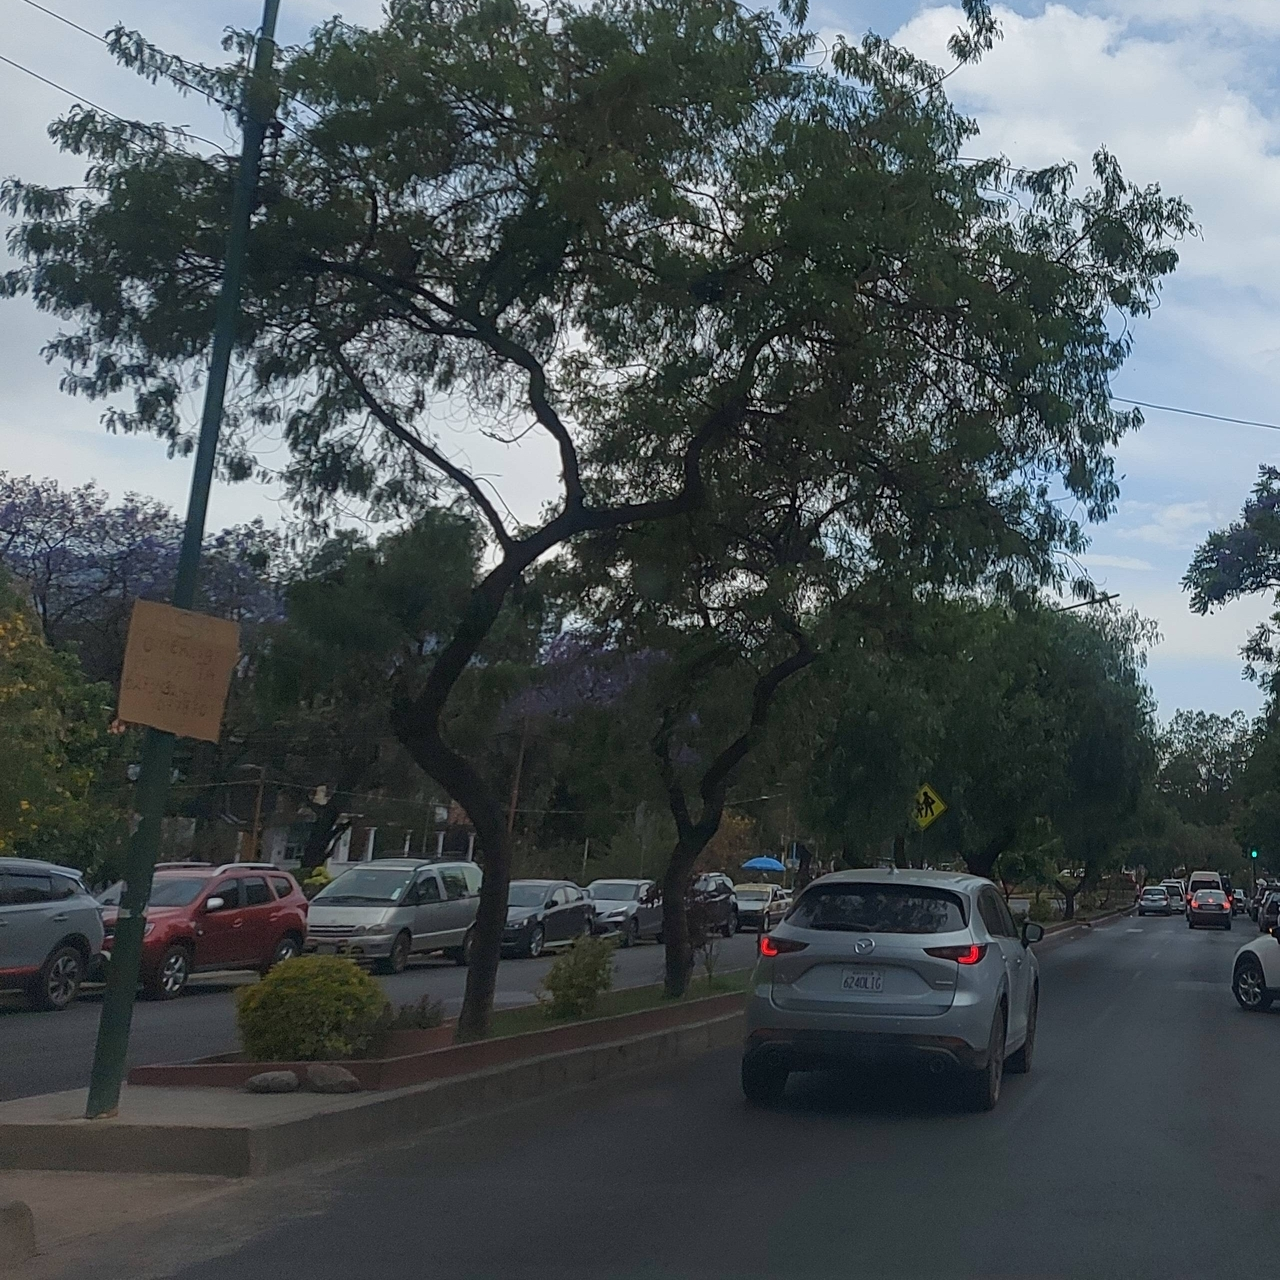zona-escolar: (900, 784, 942, 829)
